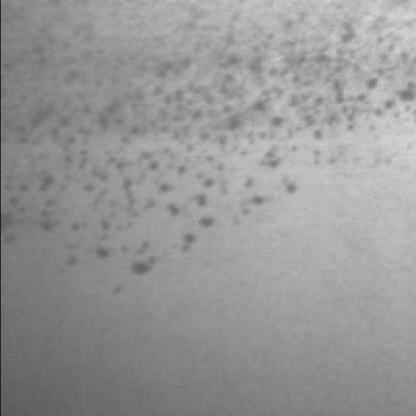pitted_surface: (12, 25, 416, 279)
